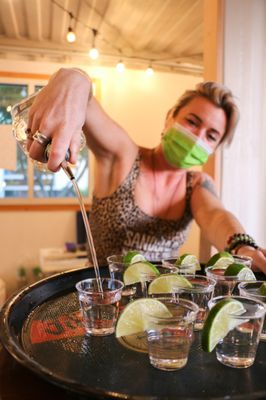pizza: (203, 297, 265, 369), (144, 298, 196, 372), (75, 278, 124, 337)
